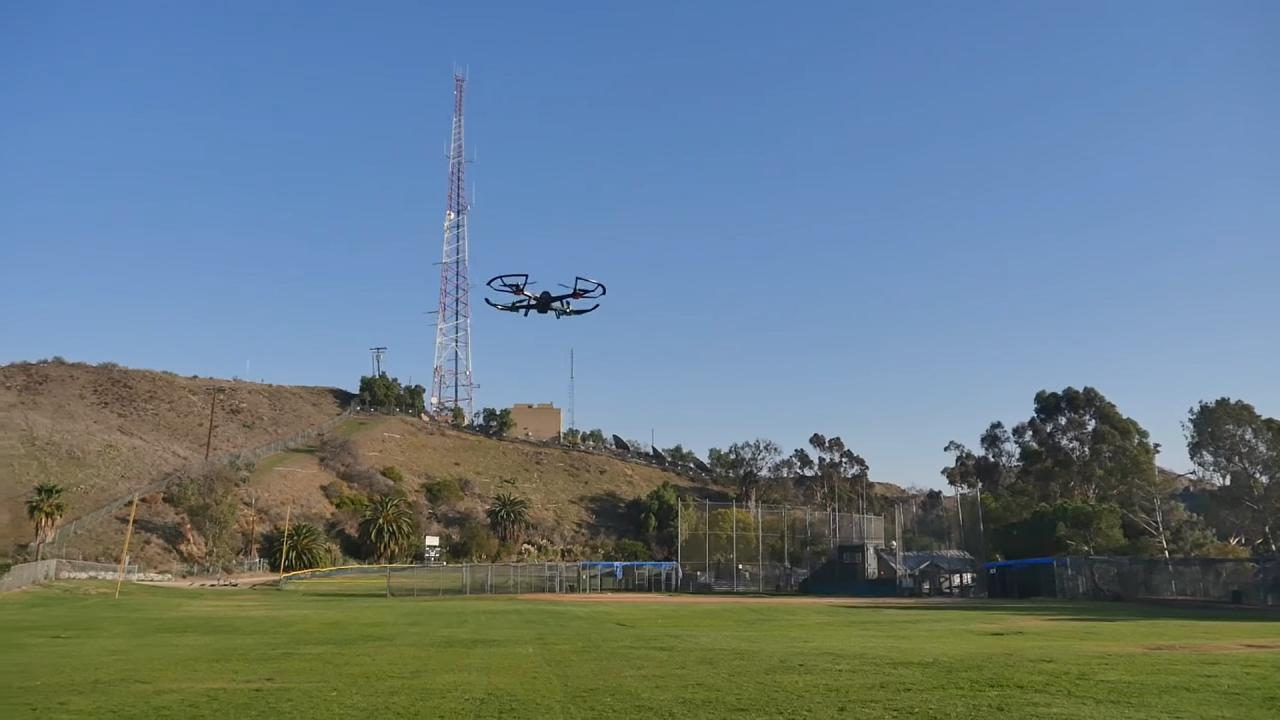Drone: (475, 262, 619, 331)
